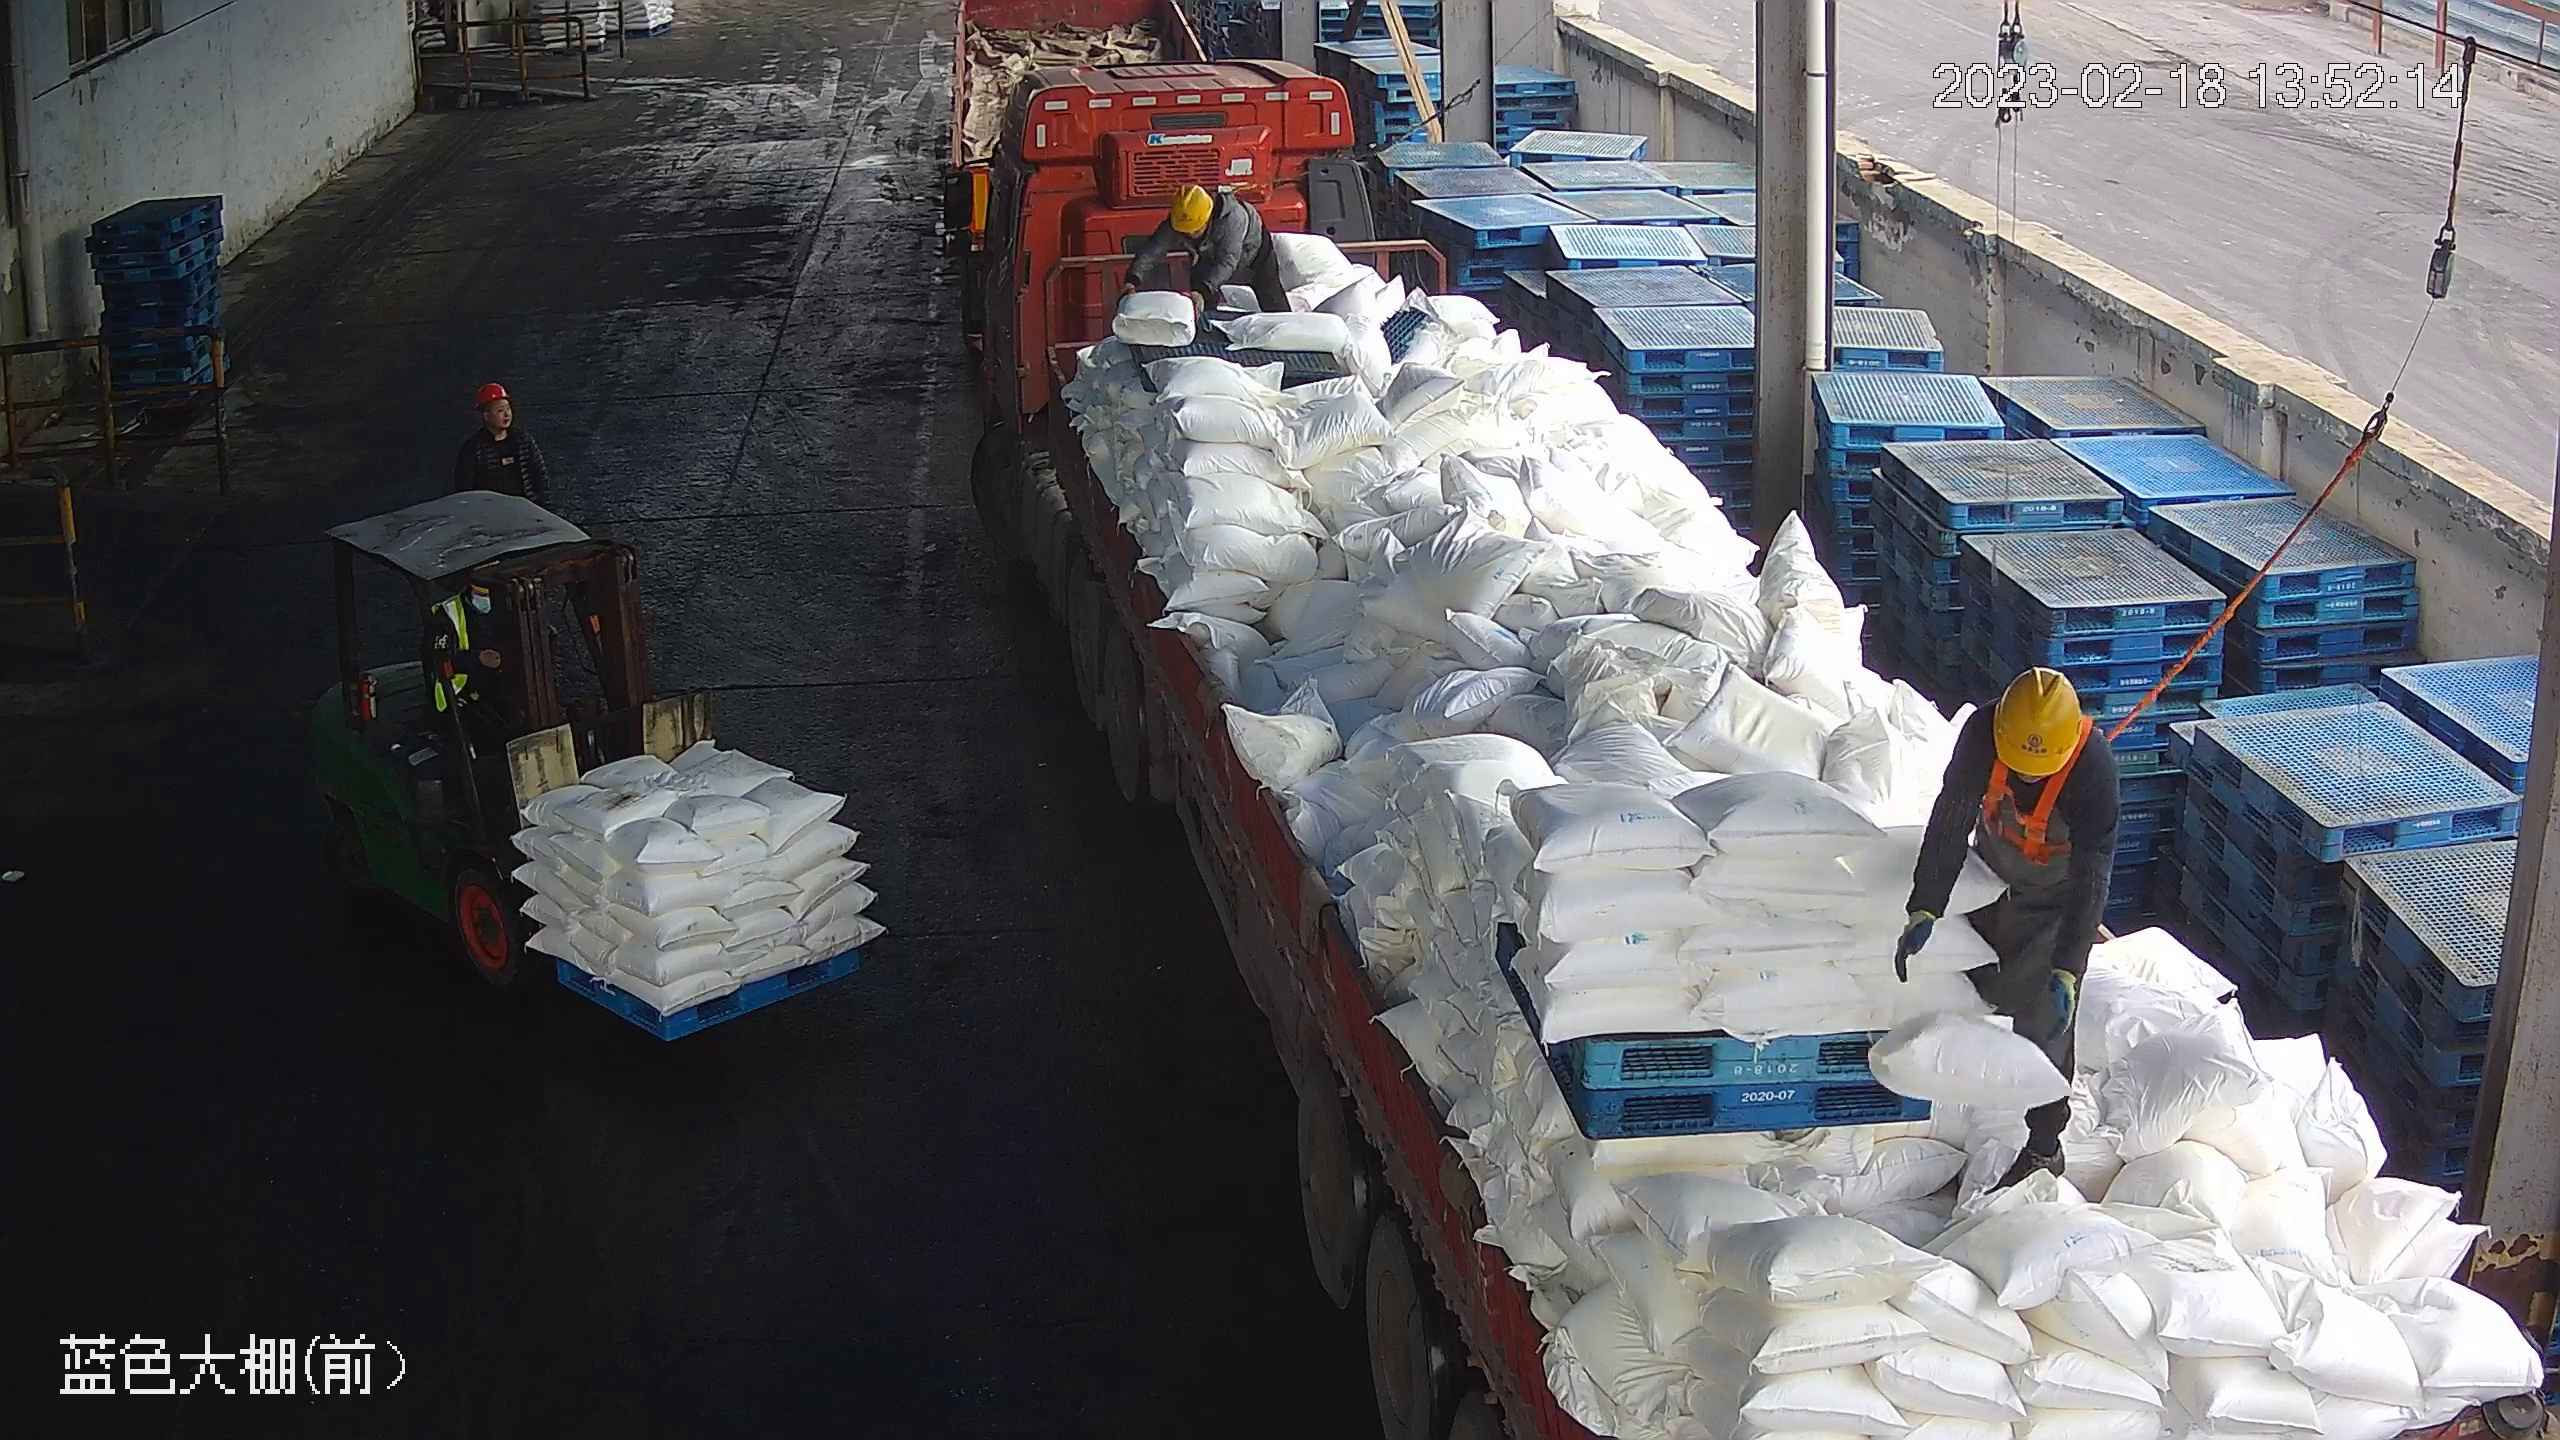belt: (1943, 718, 2093, 863), (1183, 184, 1264, 259)
head: (1928, 669, 2120, 834), (459, 382, 546, 487), (1159, 183, 1247, 258)
helmet: (1994, 667, 2086, 779), (1171, 180, 1216, 234), (472, 382, 513, 411)
people: (1891, 666, 2119, 1193), (1119, 179, 1295, 317)
truck: (940, 54, 2560, 1440)
